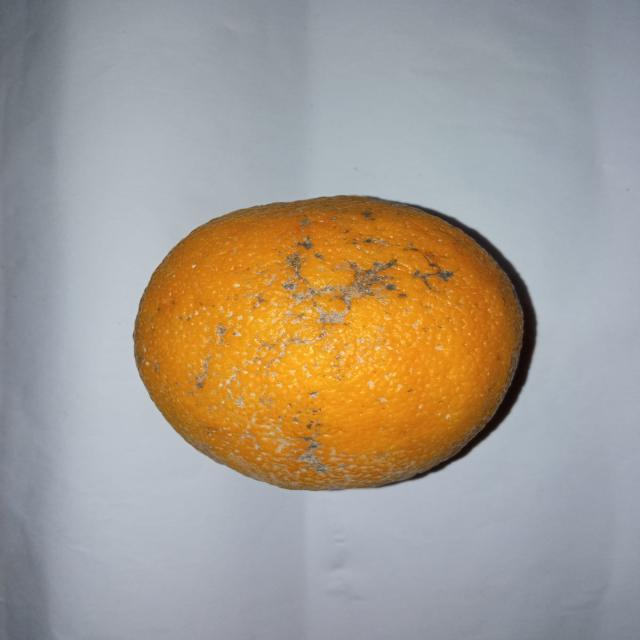rotten_orange: (133, 196, 522, 488)
